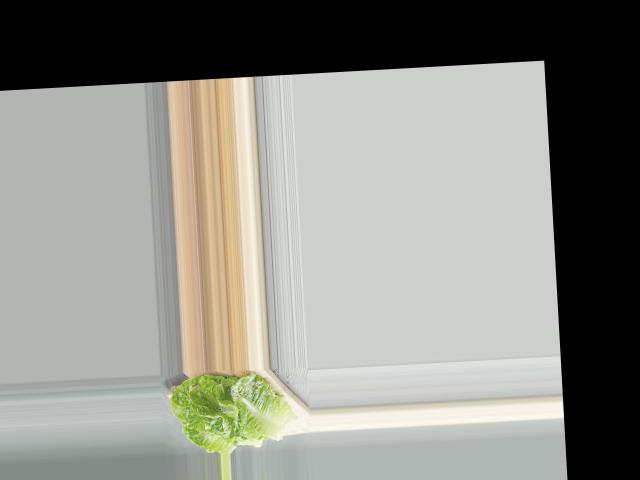lettuce: (165, 366, 294, 455)
